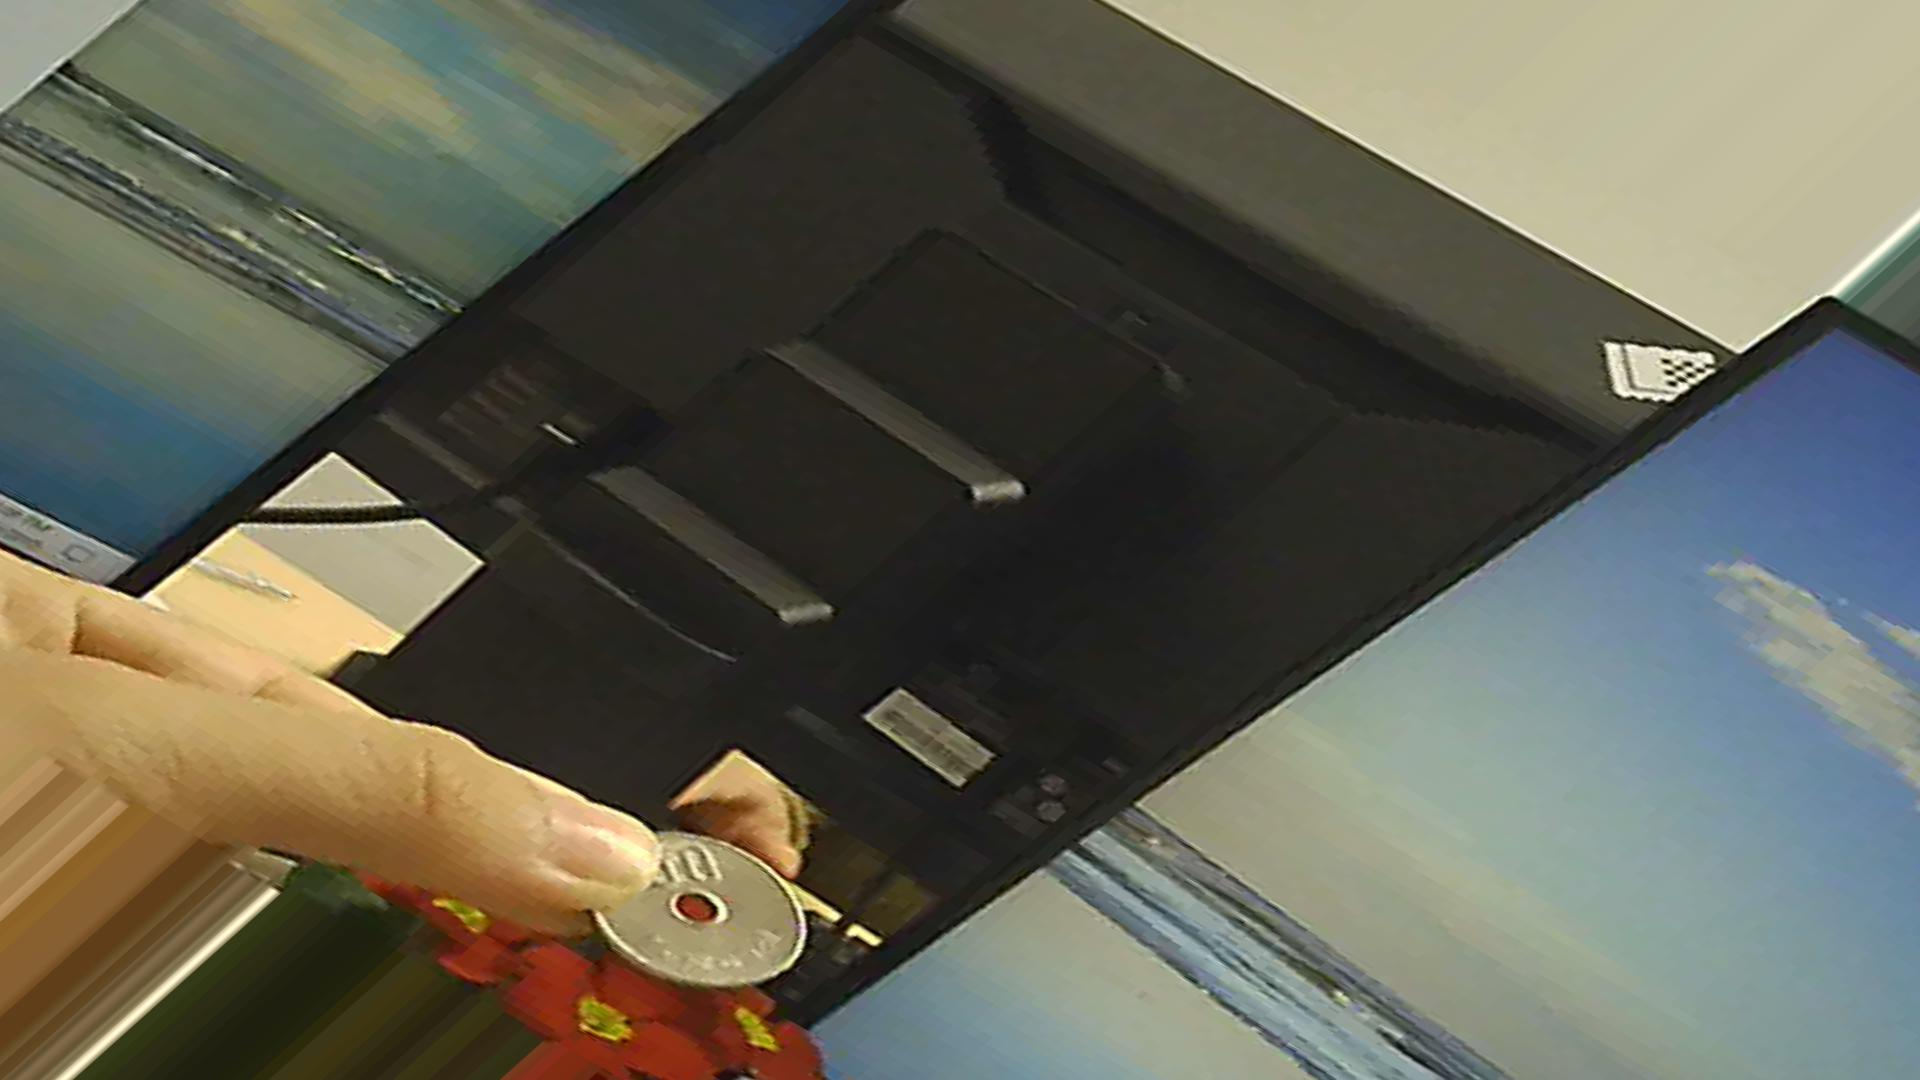50 Yen: (574, 814, 800, 986)
